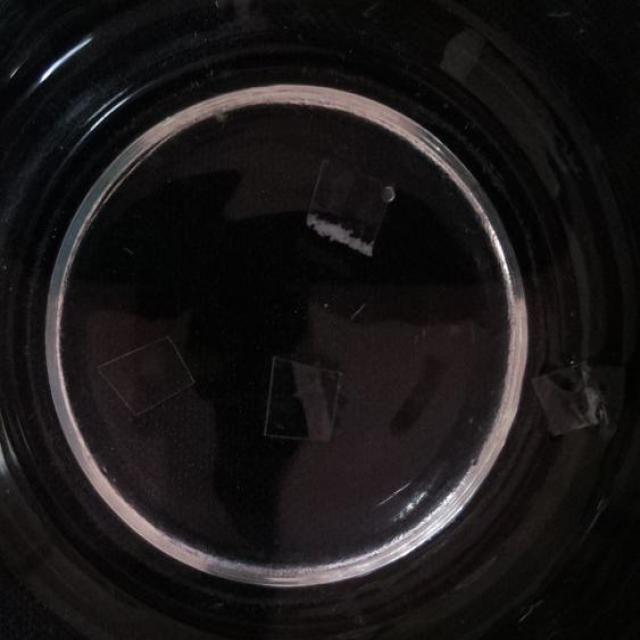fiber: (305, 155, 383, 252), (101, 339, 194, 414), (268, 358, 342, 441), (534, 370, 606, 432), (440, 20, 481, 79)
